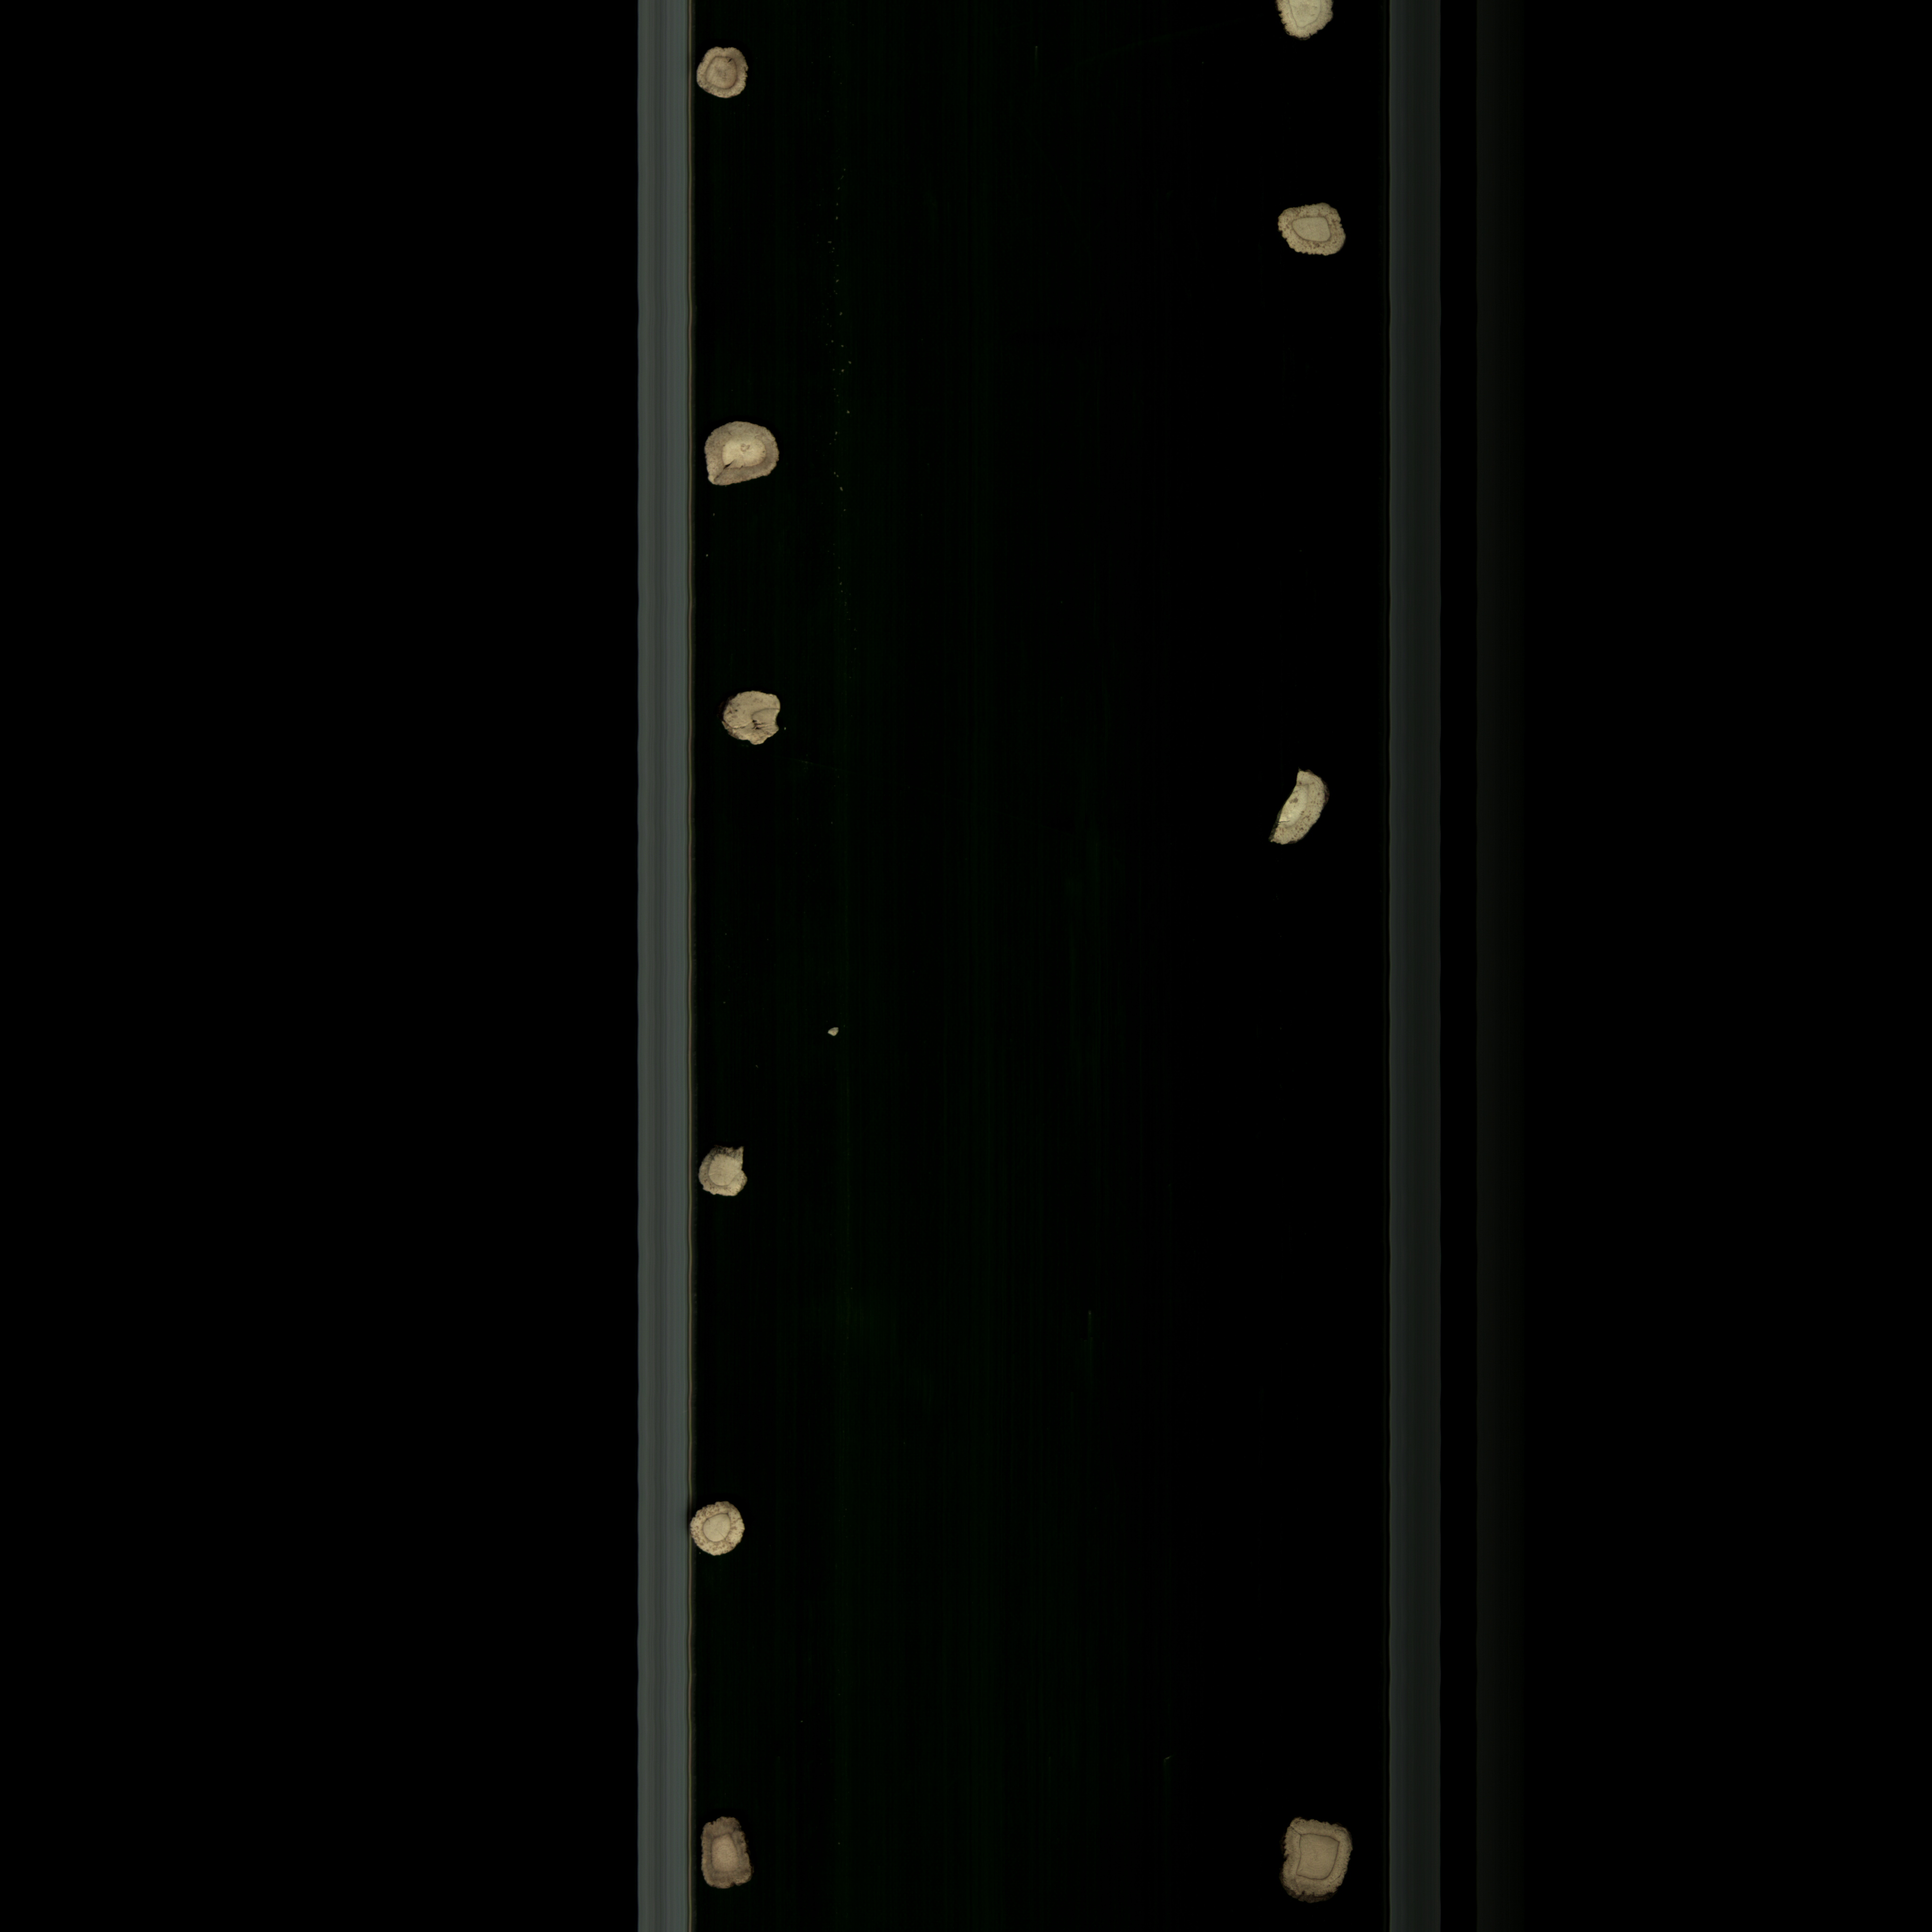debris: (1260, 757, 1325, 863)
dreg: (694, 1141, 777, 1215), (821, 1012, 853, 1056)
moldy: (1269, 1790, 1355, 1907), (694, 414, 805, 497), (679, 37, 766, 140), (708, 685, 816, 766), (695, 1805, 770, 1907)
